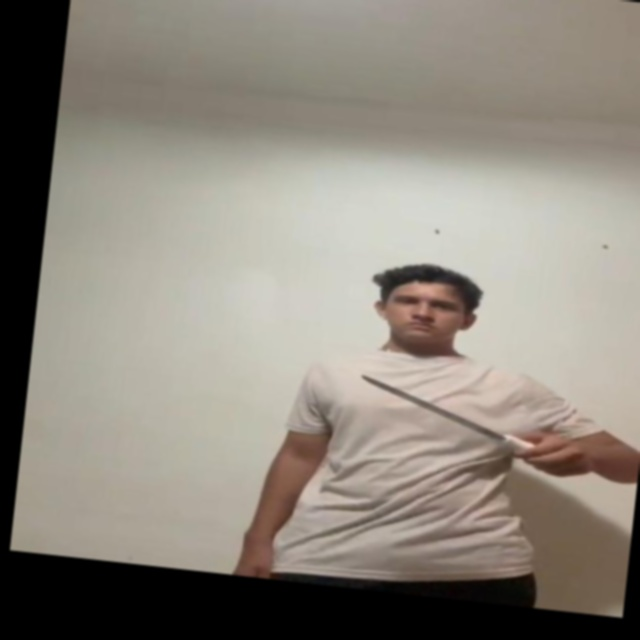Sharp-Object: (353, 372, 512, 440)
